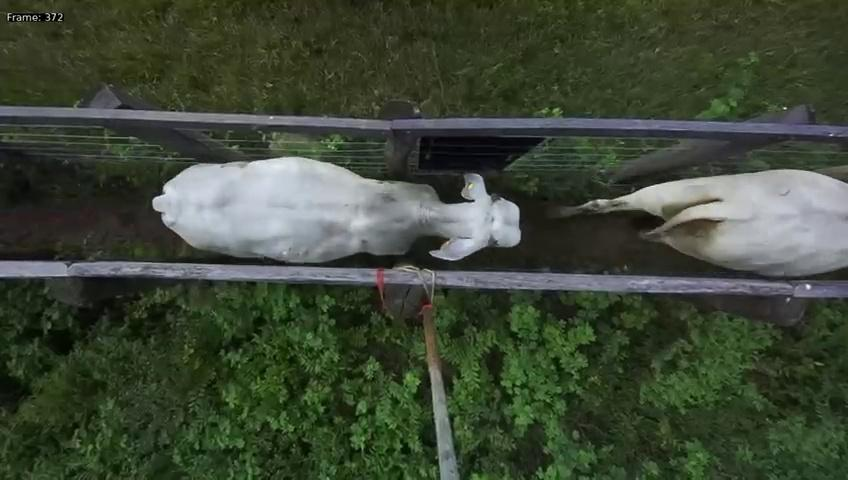cattle: (150, 134, 523, 265)
